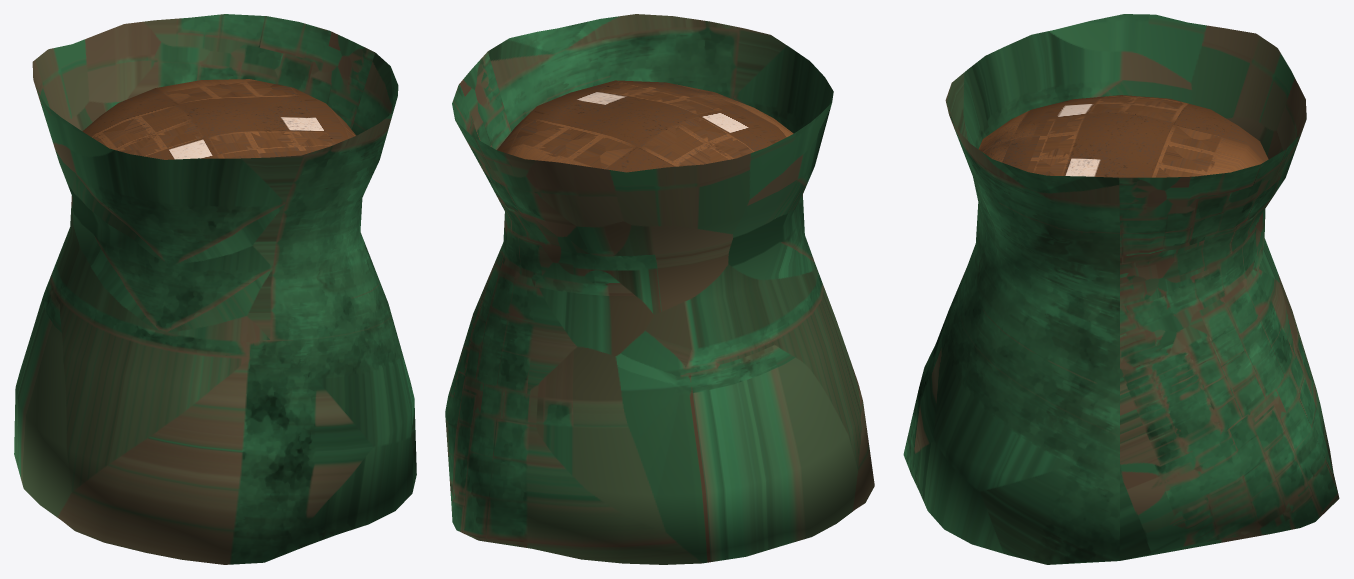
The model's file is bag of rice.fbx.
3 views of the same model, side by side, from view 1: azimuth 30°, elevation 25°; view 2: azimuth 150°, elevation 25°; view 3: azimuth 270°, elevation 25° (orthographic). The views are drawn at different scales.
Parts seen in each view (by area): view 1: bag of rice_low, rice; view 2: bag of rice_low, rice; view 3: bag of rice_low, rice.
Part boxes in pixels (<box>): bag of rice_low: <box>14,14,416,564</box>; rice: <box>82,79,356,159</box>; bag of rice_low: <box>445,14,874,564</box>; rice: <box>497,80,793,172</box>; bag of rice_low: <box>903,14,1339,564</box>; rice: <box>978,95,1268,177</box>.
Bounding box in the file's own units: 196 × 185 × 196.
